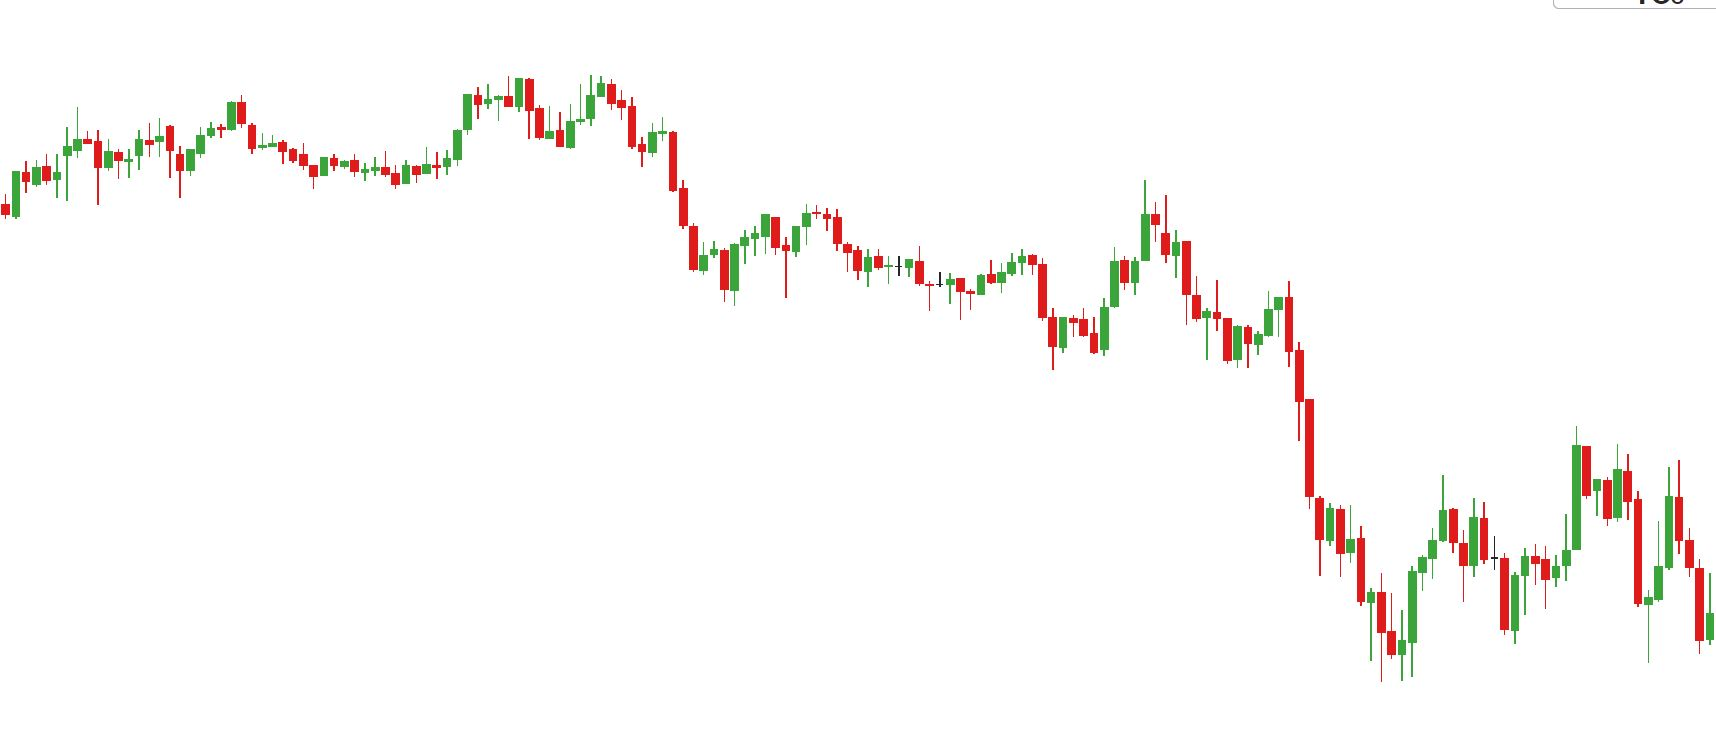buy: (1508, 542, 1654, 659), (515, 68, 615, 129)
